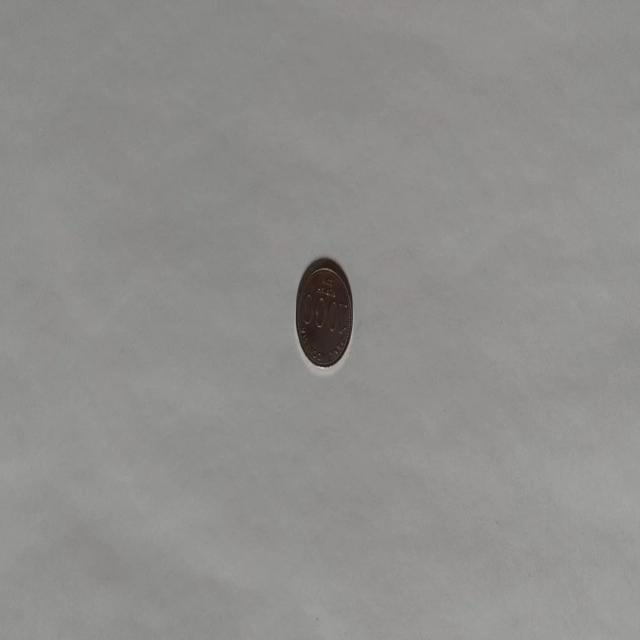seribu rupiah koin: (294, 255, 354, 371)
